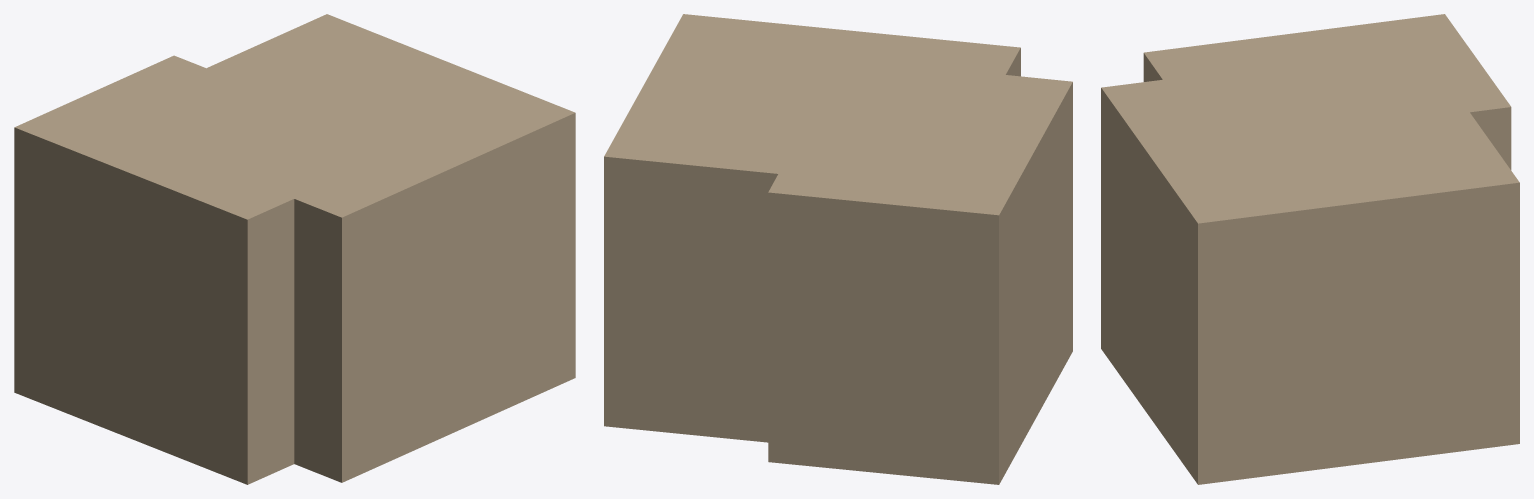
File: bld_108162143.dae
3 views of the same model, side by side, from view 1: azimuth 30°, elevation 25°; view 2: azimuth 150°, elevation 25°; view 3: azimuth 270°, elevation 25° (orthographic). The views are drawn at different scales.
Visible parts, largest first — view 1: bld_108162143; view 2: bld_108162143; view 3: bld_108162143.
Part boxes in pixels (x1,y1,x2,y2): bld_108162143: [14, 14, 575, 484]; bld_108162143: [604, 14, 1072, 484]; bld_108162143: [1101, 14, 1519, 484].
Bounding box in the file's own units: 13.76 × 11.61 × 8.
